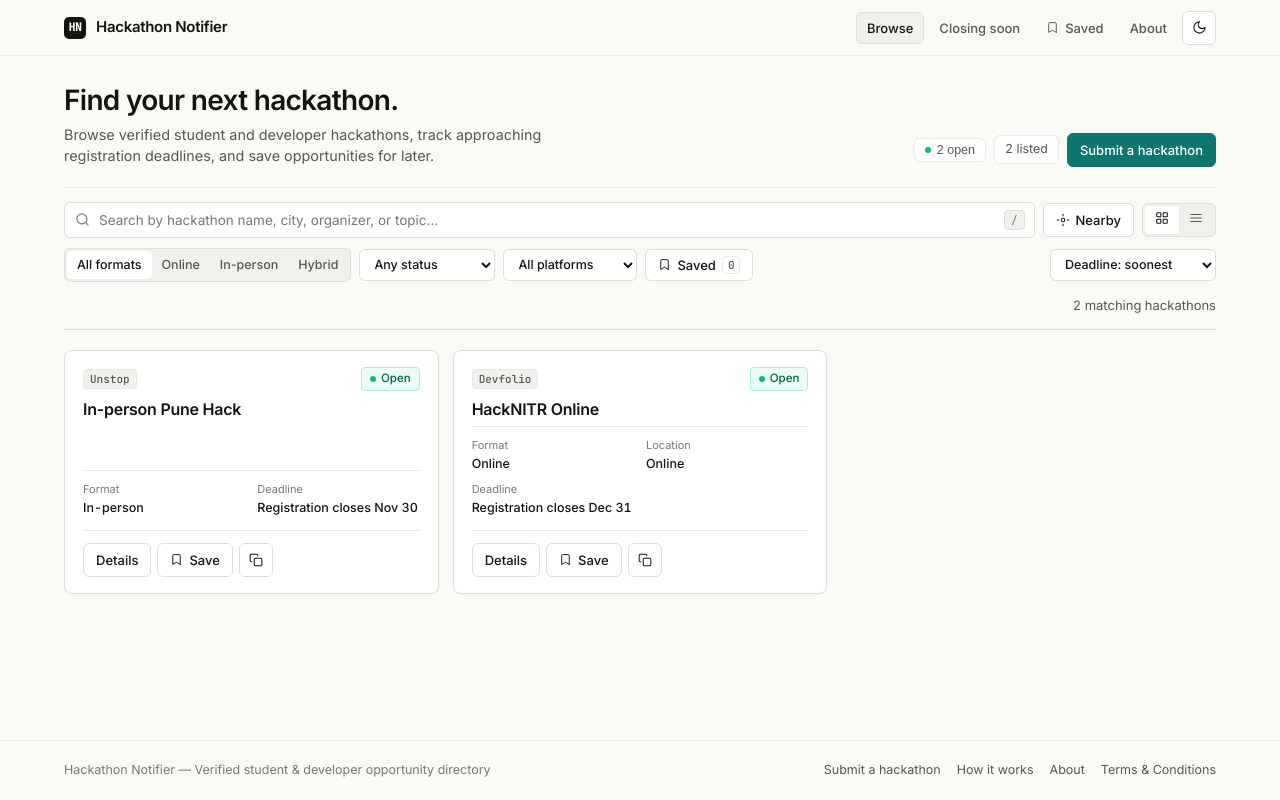
Student discovery experience in App › opens detail modal when Details button is clicked
This screenshot has width=1280, height=800.
Expected: the heading "HackNITR Online" is shown, [472,399,599,419]
Click the button "Details" below "Registration closes Nov 30".
click(117, 560)  # box [83,543,152,577]
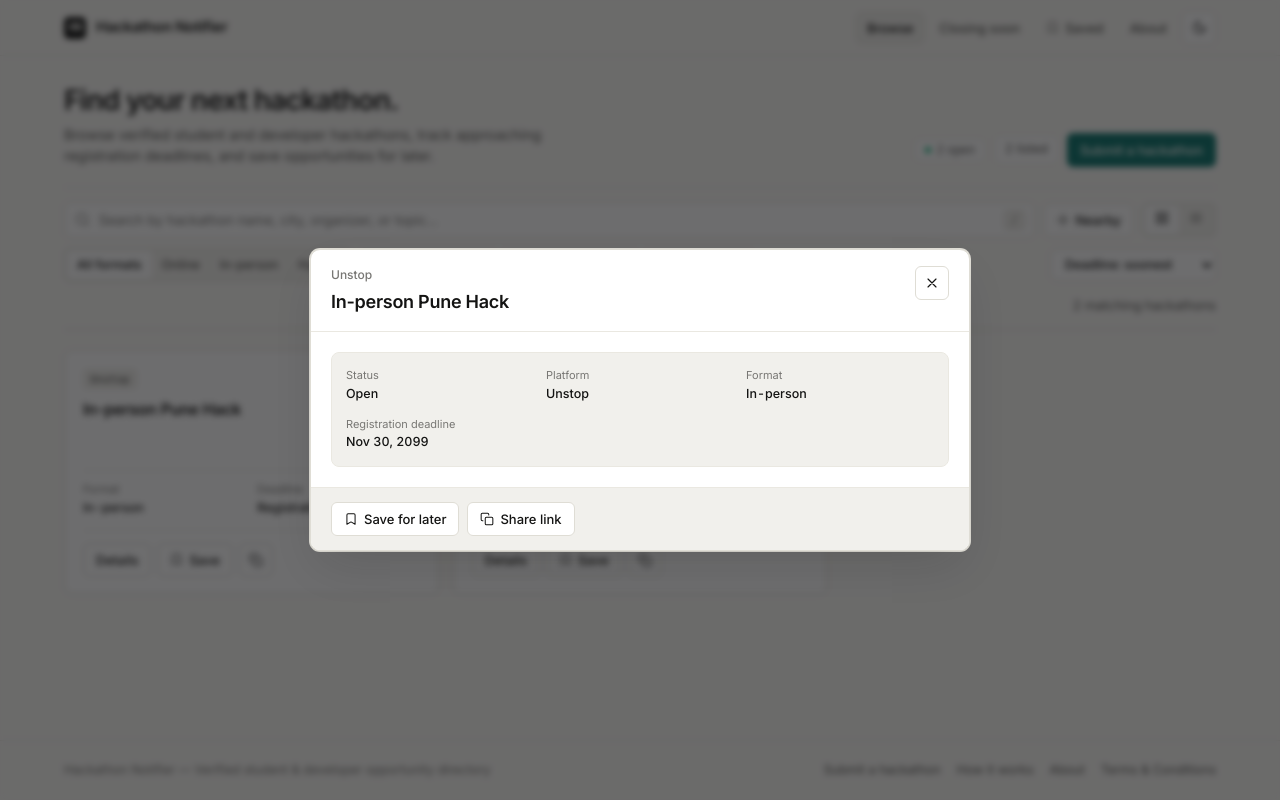
Expected: the dialog is shown
Expected: the button named "Close dialog" is shown, [915,266,949,300]
